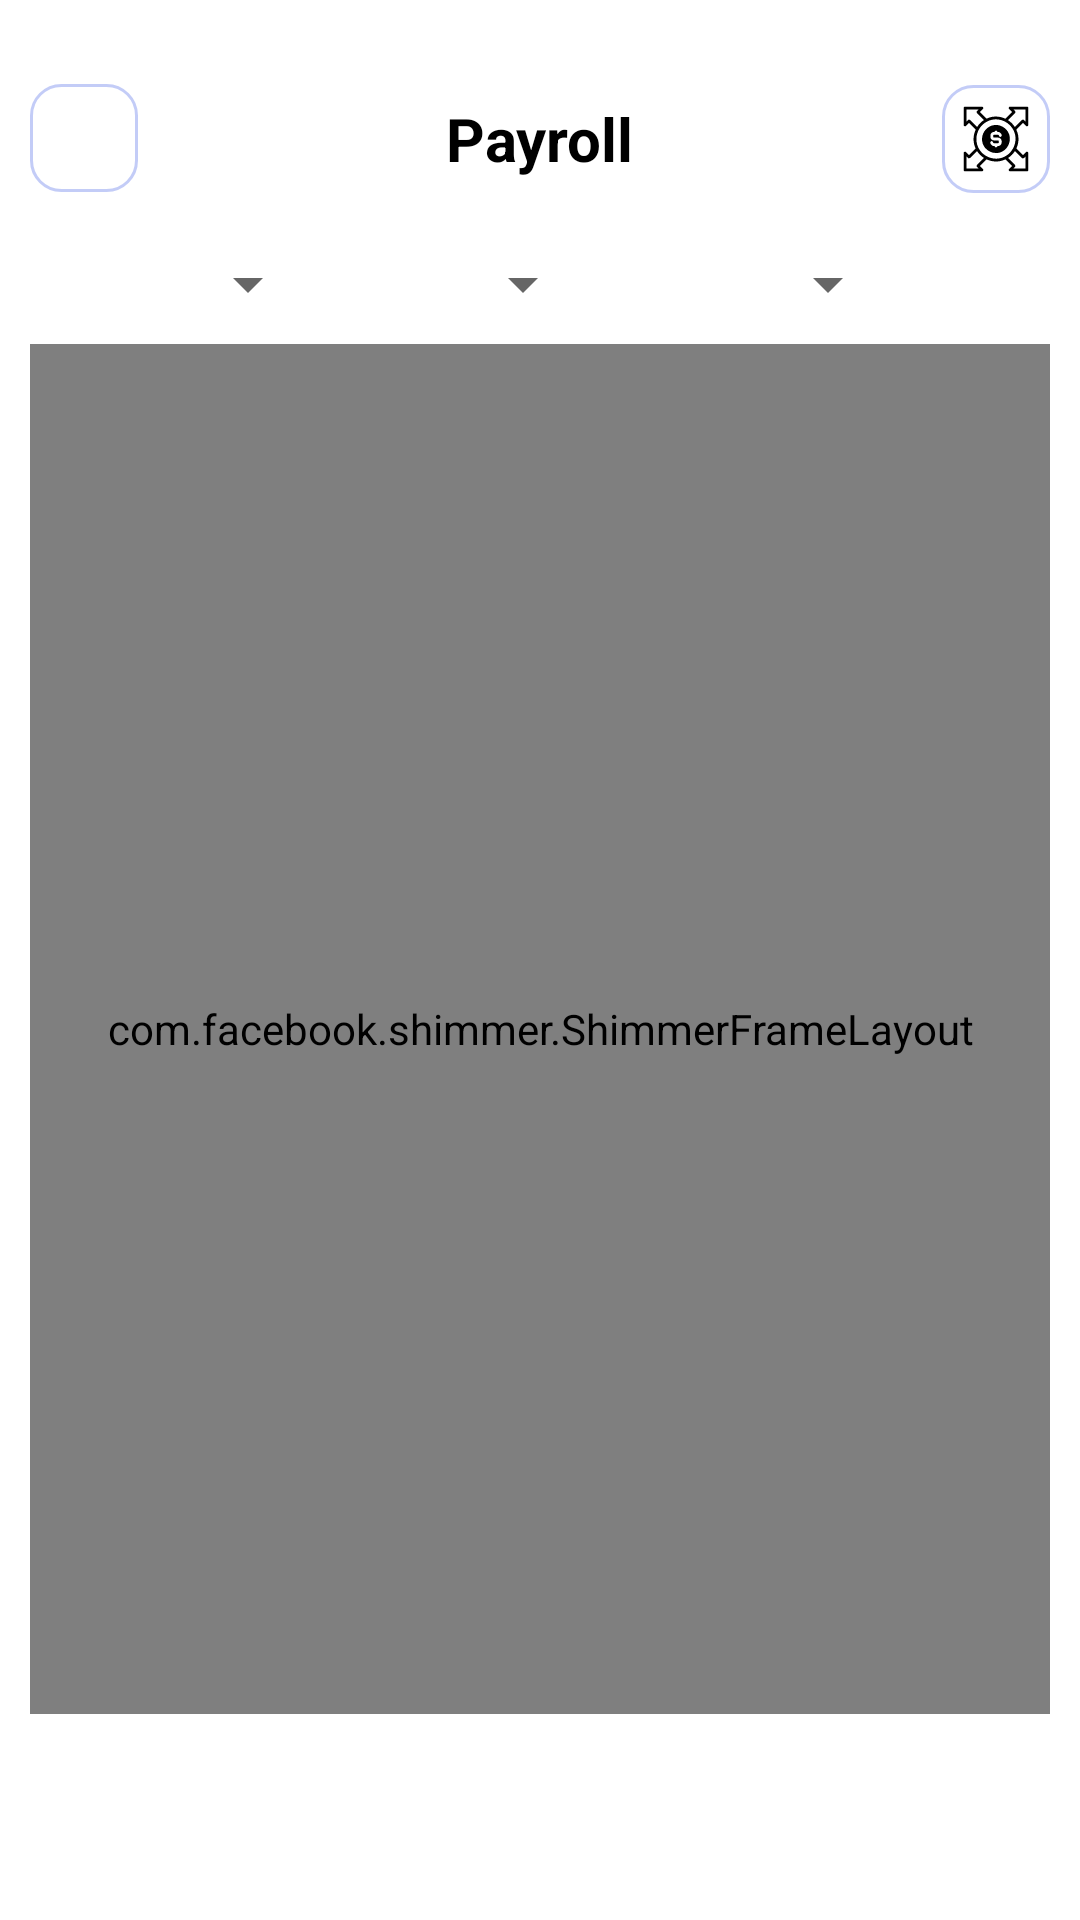

Screen size 1080*1920. Icon name, then its center in pixels as [x,y]:
expanses: [996,139]
